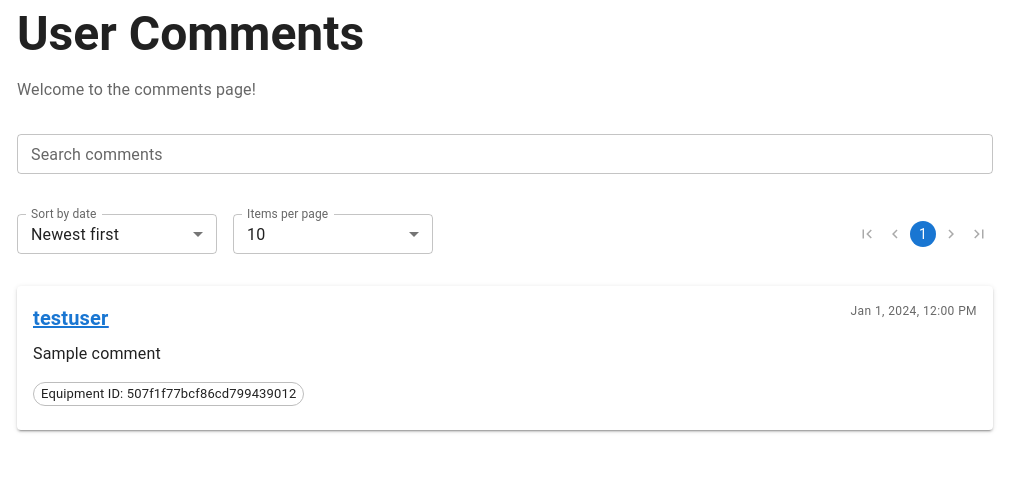
changes page size when items per page select is changed
The image size is (1011, 480).
What coordinates should you click on to do the following:
click the dropdown named "Items per page"
I would click on:
 (256, 234)
Its box is [247,224,265,244].
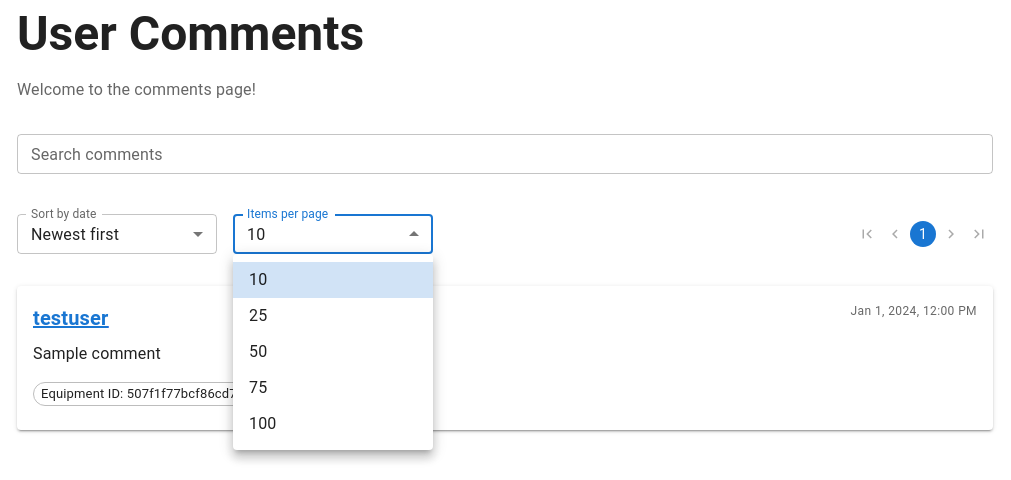
What coordinates should you click on to do the following:
click the option "25"
I would click on:
 (258, 316)
Its box is [249,306,267,325].
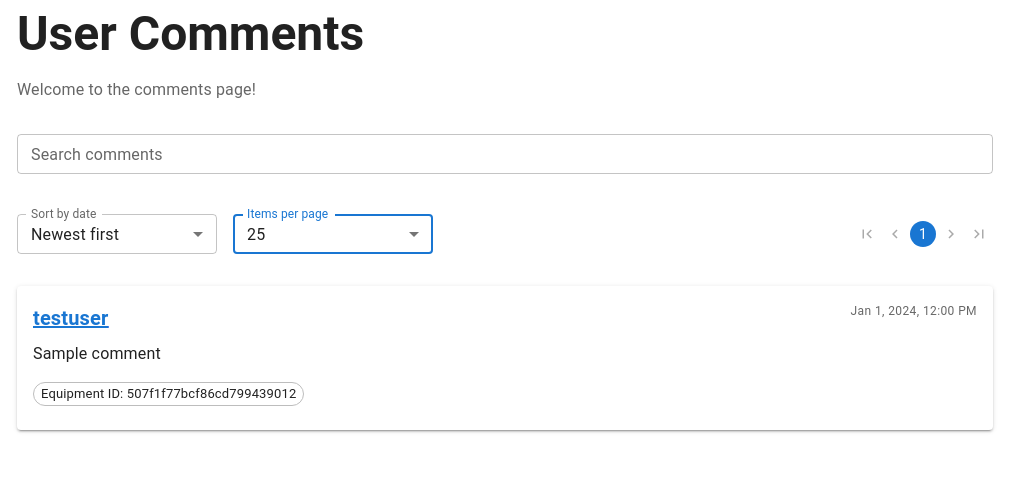
Result: the dropdown named "Items per page" reads "25" at [247,224,265,244]
